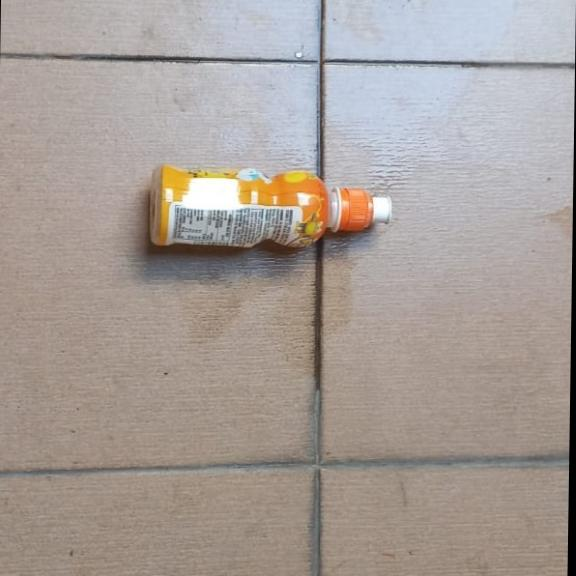Plastik: (149, 164, 391, 248)
